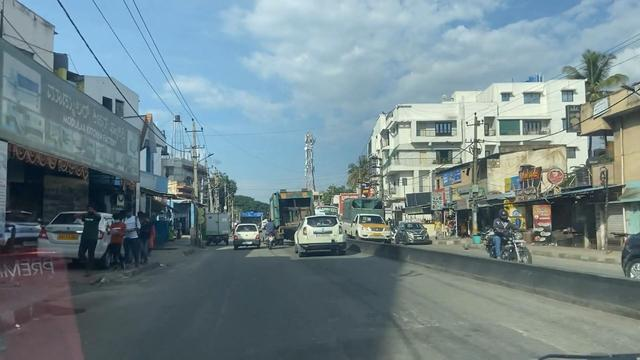LMV: (295, 216, 345, 254), (234, 224, 259, 248)
RoadDamages: (364, 301, 444, 336)
